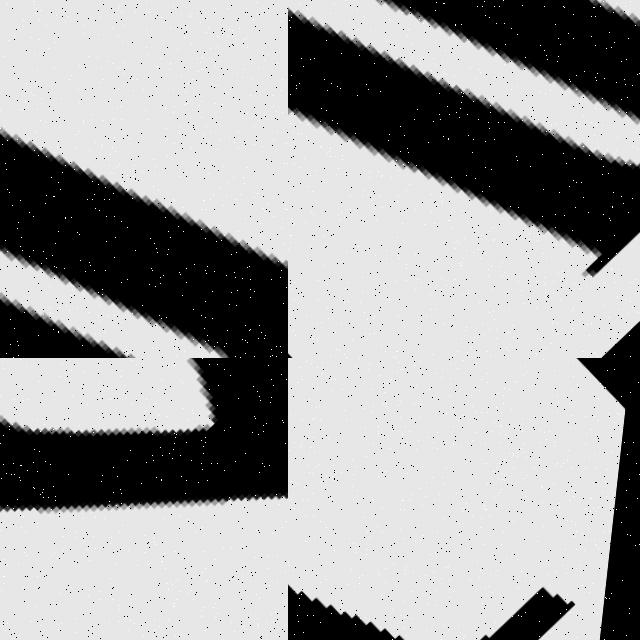1: (288, 358, 623, 640)
B: (0, 121, 288, 358)
U: (288, 0, 640, 358)
Y: (0, 358, 288, 640)
